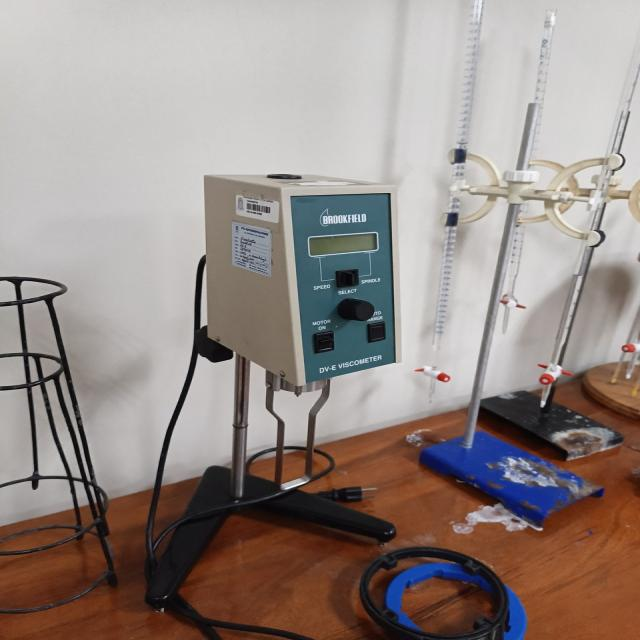Viscosimetro Rotacional Digital Brookfield: (145, 174, 400, 610)
